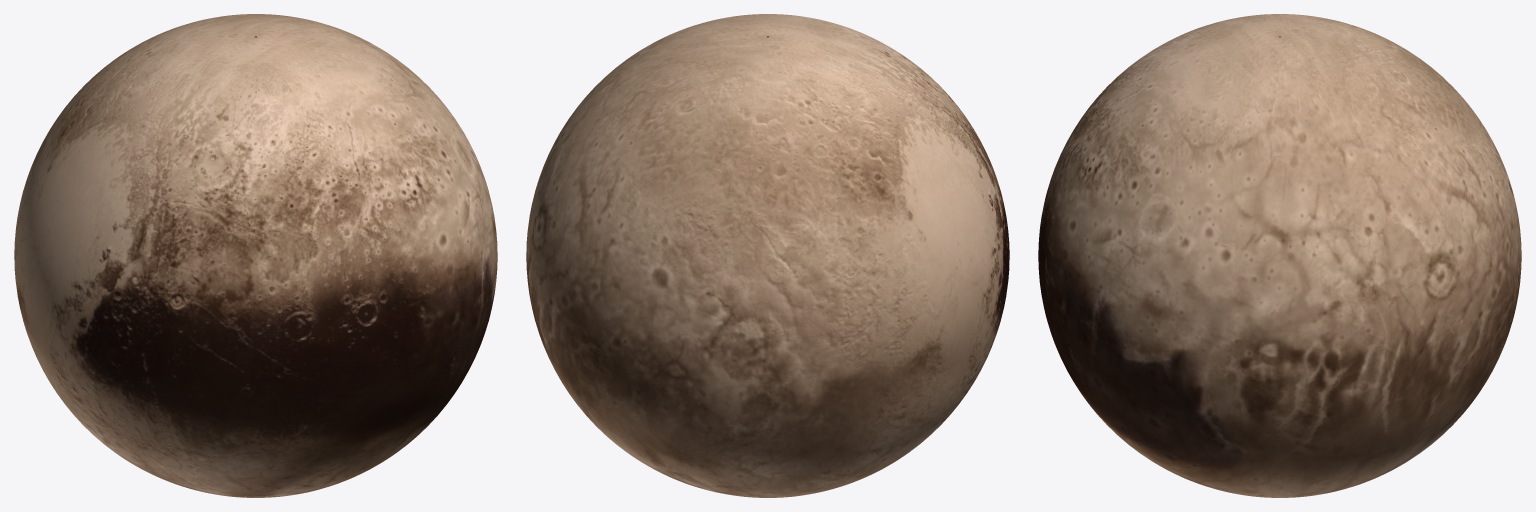
File: pluto.fbx
3 renders of one model, left to right at view 1: azimuth 30°, elevation 25°; view 2: azimuth 150°, elevation 25°; view 3: azimuth 270°, elevation 25°, orthographic.
Visible parts, largest first — view 1: Pluto; view 2: Pluto; view 3: Pluto.
Part boxes in pixels (x1,y1,x2,y2): Pluto: (14, 14, 497, 497); Pluto: (526, 14, 1009, 497); Pluto: (1038, 14, 1521, 497).
Bounding box in the file's own units: 0.6366 × 0.6366 × 0.6366.
Materials: 1 (1 with a texture image).
